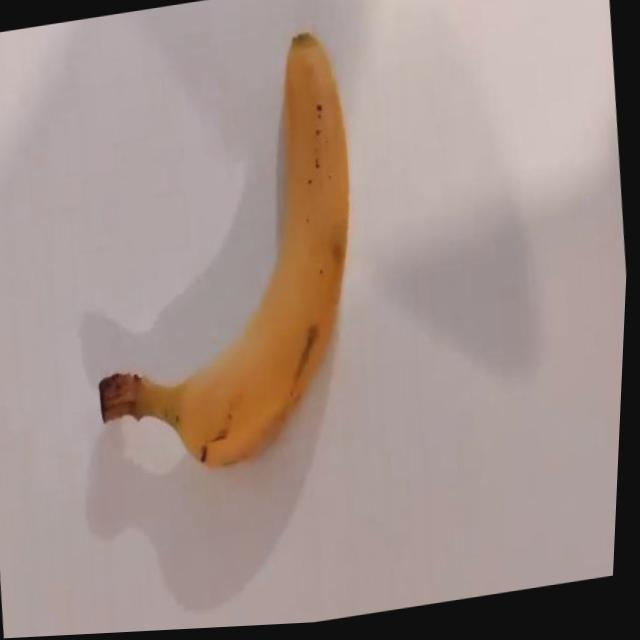Banana: (66, 29, 385, 491)
